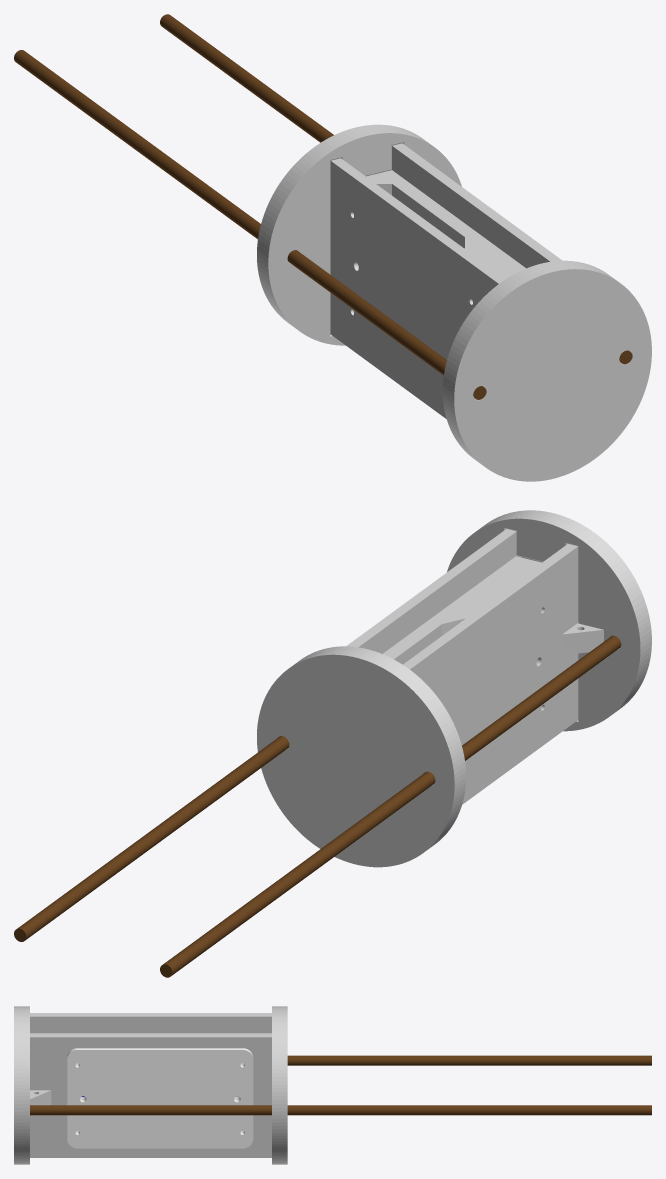
File: avibaymk2_asm.glb
3 renders of one model, top to bottom at view 1: azimuth 30°, elevation 25°; view 2: azimuth 150°, elevation 25°; view 3: azimuth 270°, elevation 25°, orthographic. The views are drawn at different scales.
Parts seen in each view (by area): view 1: Node1, Node2; view 2: Node1, Node2; view 3: Node1, Node4, Node2.
Part boxes in pixels (x1=…): Node1: x1=257, y1=124, x2=651, y2=481; Node2: x1=14, y1=14, x2=632, y2=399; Node1: x1=257, y1=510, x2=651, y2=867; Node2: x1=14, y1=635, x2=621, y2=977; Node1: x1=14, y1=1006, x2=287, y2=1164; Node4: x1=67, y1=1048, x2=253, y2=1148; Node2: x1=30, y1=1055, x2=651, y2=1115.
Size of the model in its own units: 1.92 by 1.92 by 7.74.
